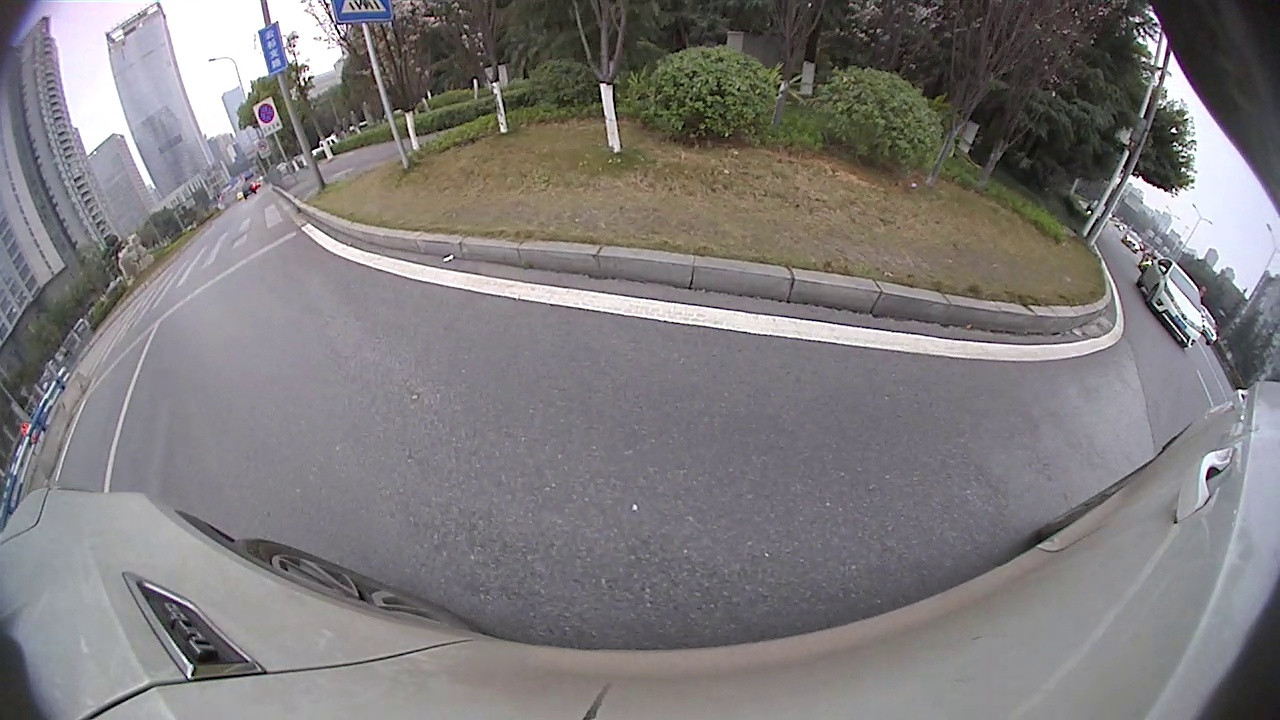car: (1136, 257, 1204, 350), (1201, 307, 1220, 346), (1121, 228, 1146, 255)
